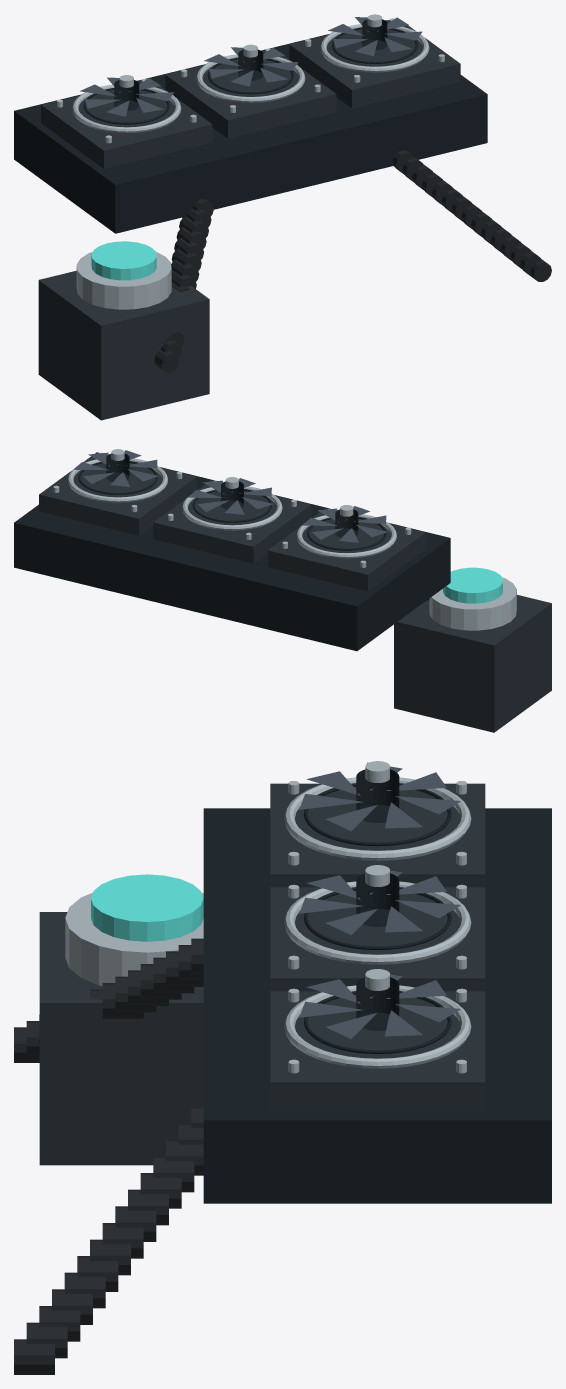
The model's file is aio-360.glb.
3 renders of one model, top to bottom at view 1: azimuth 30°, elevation 25°; view 2: azimuth 150°, elevation 25°; view 3: azimuth 270°, elevation 25°, orthographic. The views are drawn at different scales.
Visible parts, largest first — view 1: aio-360; view 2: aio-360; view 3: aio-360.
Boxes of the visible parts, x1=… form: aio-360: x1=14, y1=14, x2=551, y2=420; aio-360: x1=14, y1=449, x2=551, y2=732; aio-360: x1=14, y1=761, x2=551, y2=1374.
Bounding box in the file's own units: 1.71 × 0.8875 × 1.05.
